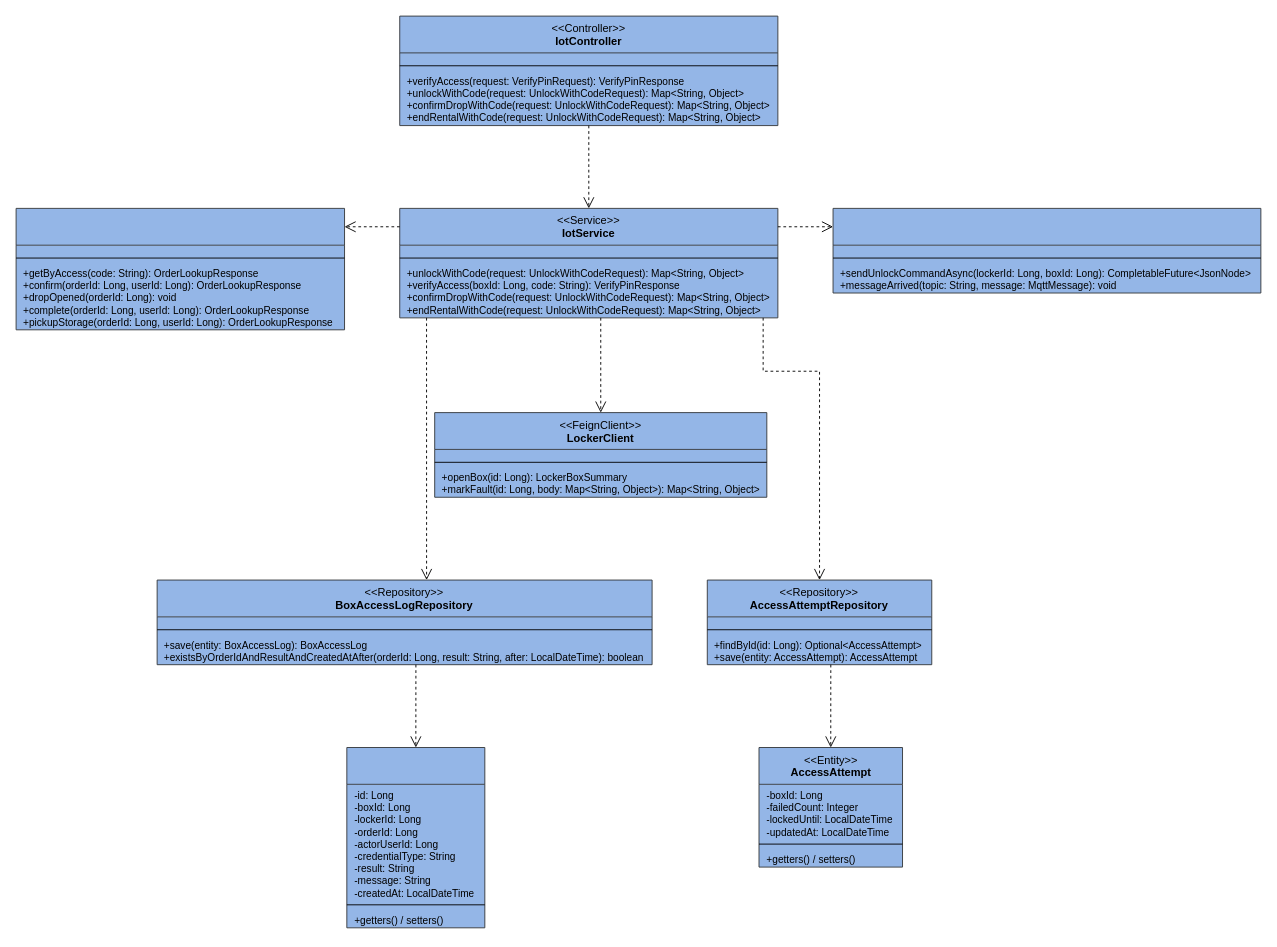
The diagram is 1277 pixels wide and 947 high, and some of its shapes have lost their labels. The box of each missing label's shape, as (x1, y1, x2, y2) in pixels:
<<Component>> LockerMqttService: (832, 207, 1261, 293)
<<Entity>> BoxAccessLog: (346, 747, 485, 928)
<<FeignClient>> OrderClient: (15, 207, 345, 330)
